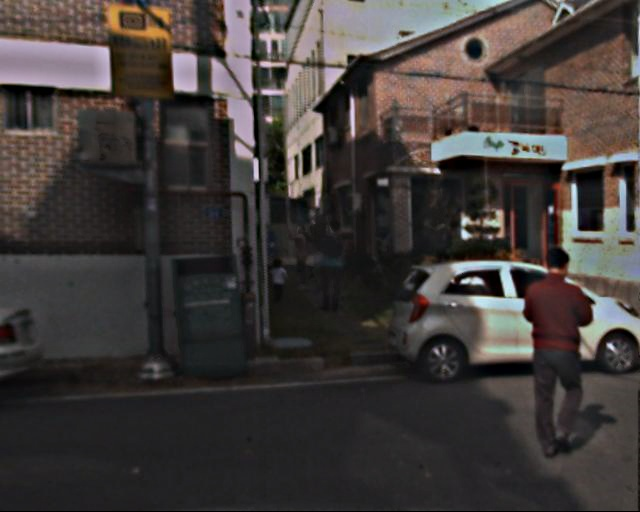person: (511, 249, 600, 454), (311, 215, 353, 316), (289, 225, 317, 293), (267, 258, 287, 302)
